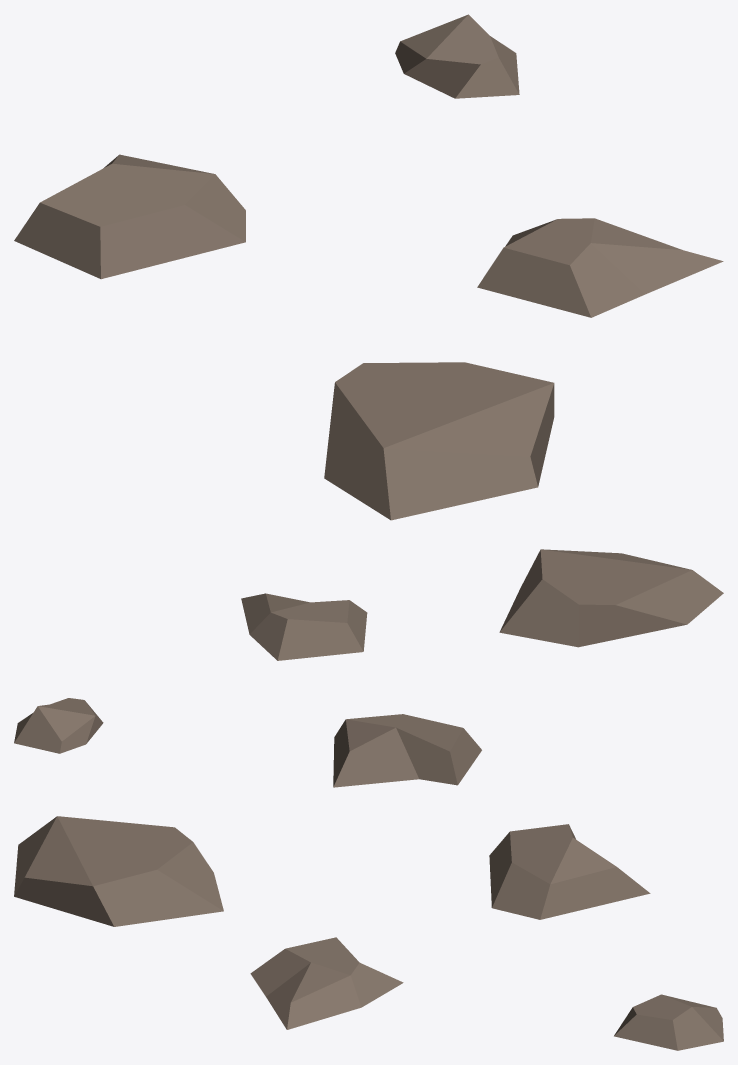
The model's file is enchantedforest_stone_2.fbx.
3 views of the same model, one above another, from view 1: azimuth 30°, elevation 25°; view 2: azimuth 150°, elevation 25°; view 3: azimuth 270°, elevation 25° (orthographic). The views are drawn at different scales.
Visible parts, largest first — view 1: Cylinder.008; view 2: Cylinder.008; view 3: Cylinder.008.
Boxes of the visible parts, bbox=[...] form: Cylinder.008: bbox=[14, 14, 723, 520]; Cylinder.008: bbox=[14, 549, 723, 787]; Cylinder.008: bbox=[14, 816, 723, 1050].
Bounding box in the file's own units: 0.9405 × 0.0892 × 1.35.
